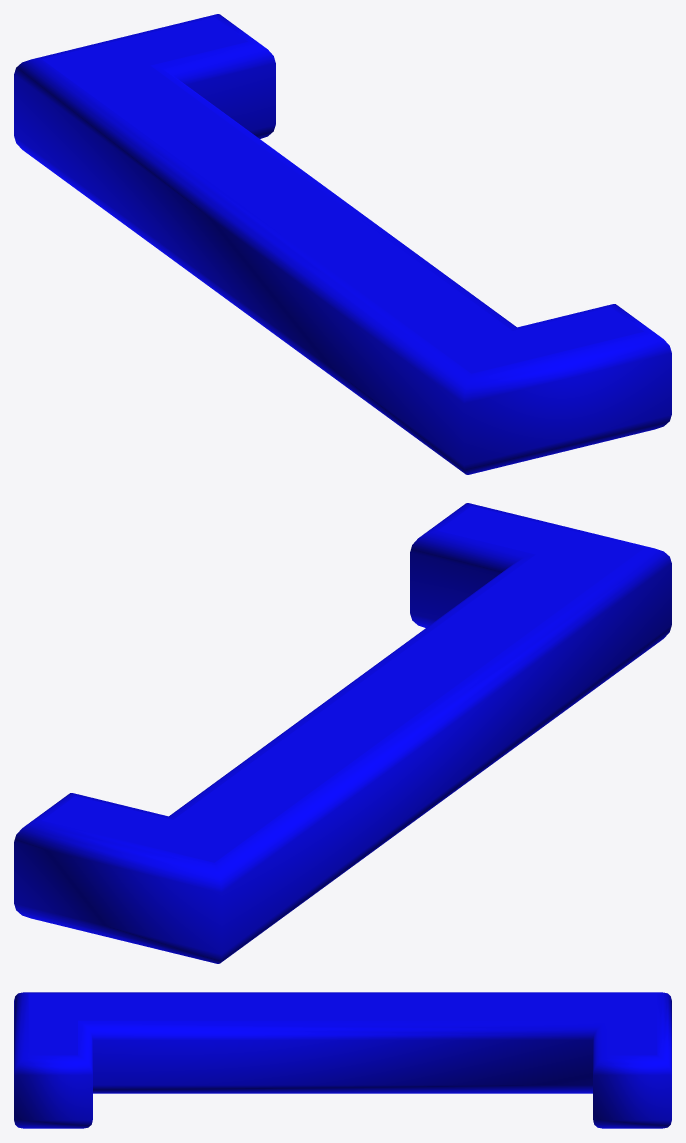
3 renders of one model, top to bottom at view 1: azimuth 30°, elevation 25°; view 2: azimuth 150°, elevation 25°; view 3: azimuth 270°, elevation 25°, orthographic. The views are drawn at different scales.
Parts seen in each view (by area): view 1: 91; view 2: 91; view 3: 91.
Boxes of the visible parts, x1,y1,x2,y2 form: 91: (14,14,671,474); 91: (14,503,671,963); 91: (14,992,671,1128).
Size of the model in its own units: 0.3552 by 0.16 by 1.33.
